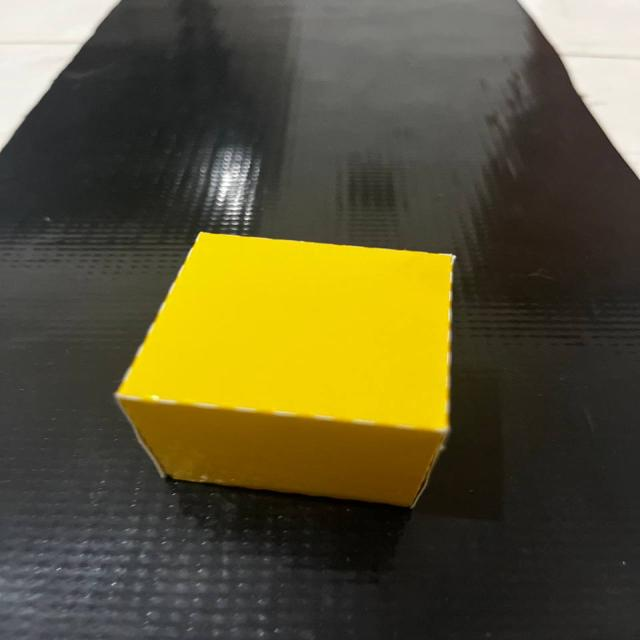Amarillo: (92, 226, 485, 524)
